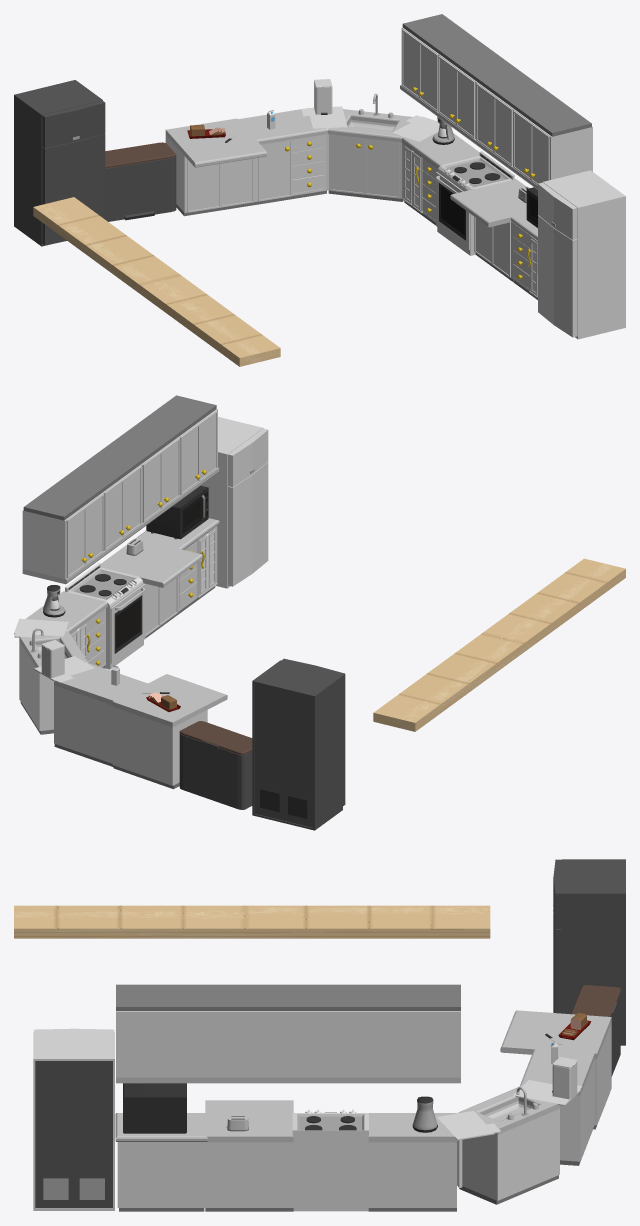
Rendered from cozinha.fbx.
3 renders of one model, top to bottom at view 1: azimuth 30°, elevation 25°; view 2: azimuth 150°, elevation 25°; view 3: azimuth 270°, elevation 25°, orthographic. The views are drawn at different scales.
Visible parts, largest first — view 1: balcao, Fridge, Fridge_Variant, Main_Door, Counter__Connected___Alt__Variant__1_, Trash_Bin, Main_Door_1, Counter__Connected__2__3_, Counter__Connected___Alt__Variant, Counter__Connected__Variant, Counter__Connected___Sink_, Freezer_Door (+30 smaller); view 2: Fridge_Variant, balcao, Counter__Connected___Alt__Variant__1_, Counter__Connected__Variant, Counter__Connected__2, Trash_Bin, Main_Door_1, Counter__Connected___Sink_, Fridge, Counter__Connected___Alt__Variant, Oven, Counter__Connected__2__2_ (+23 smaller); view 3: balcao, Fridge, Counter__Connected___Alt__Variant, Fridge_Variant, Counter__Connected__2, Counter__Connected__2__2_, Counter__Connected__2__3_, Counter__Connected__2__1_, Counter__Connected___Sink_, Counter__Connected_, Counter__Separated_, Oven (+11 smaller).
Part boxes in pixels (x1,y1,x2,y2): balcao: [33, 197, 280, 366]; Fridge: [542, 170, 625, 339]; Fridge_Variant: [14, 80, 102, 246]; Main_Door: [42, 134, 105, 245]; Counter__Connected___Alt__Variant__1_: [165, 118, 266, 216]; Trash_Bin: [105, 156, 176, 221]; Main_Door_1: [538, 215, 577, 337]; Counter__Connected__2__3_: [512, 95, 592, 189]; Counter__Connected___Alt__Variant: [450, 179, 526, 282]; Counter__Connected__Variant: [238, 108, 327, 204]; Counter__Connected___Sink_: [328, 109, 412, 201]; Freezer_Door: [42, 100, 105, 148]; Fridge_Variant: [252, 660, 342, 830]; balcao: [373, 558, 625, 731]; Counter__Connected___Alt__Variant__1_: [112, 674, 227, 789]; Counter__Connected__Variant: [54, 663, 147, 766]; Counter__Connected__2: [22, 478, 105, 584]; Trash_Bin: [179, 733, 252, 809]; Main_Door_1: [228, 462, 268, 586]; Counter__Connected___Sink_: [19, 630, 87, 734]; Fridge: [201, 417, 263, 588]; Counter__Connected___Alt__Variant: [101, 538, 202, 638]; Oven: [65, 563, 143, 669]; Counter__Connected__2__2_: [101, 423, 180, 527]; balcao: [14, 905, 490, 938]; Fridge: [33, 1032, 114, 1210]; Counter__Connected___Alt__Variant: [205, 1100, 293, 1211]; Fridge_Variant: [562, 859, 625, 1045]; Counter__Connected__2: [372, 984, 460, 1083]; Counter__Connected__2__2_: [201, 984, 289, 1083]; Counter__Connected__2__3_: [116, 984, 204, 1083]; Counter__Connected__2__1_: [288, 984, 375, 1083]; Counter__Connected___Sink_: [458, 1086, 559, 1204]; Counter__Connected_: [368, 1113, 456, 1211]; Counter__Separated_: [115, 1113, 207, 1211]; Oven: [292, 1112, 368, 1211].
Size of the model in its own units: 608 by 257 by 694.
